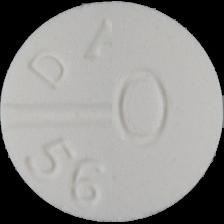0591-5643: (0, 0, 224, 224)
